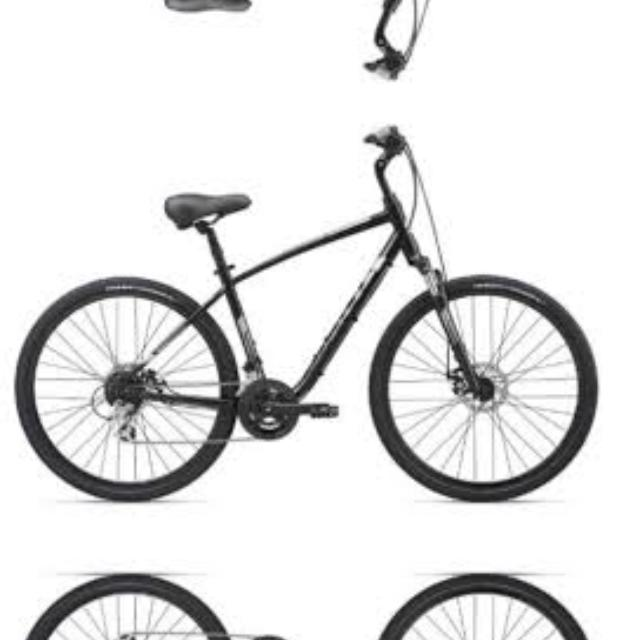obstacle: (21, 120, 602, 510), (20, 0, 601, 84), (20, 564, 601, 640)
